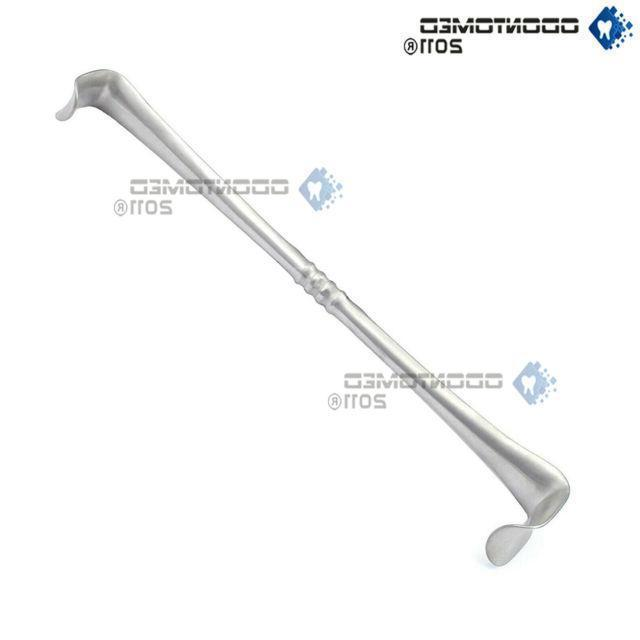Richardson: (52, 65, 576, 571)
